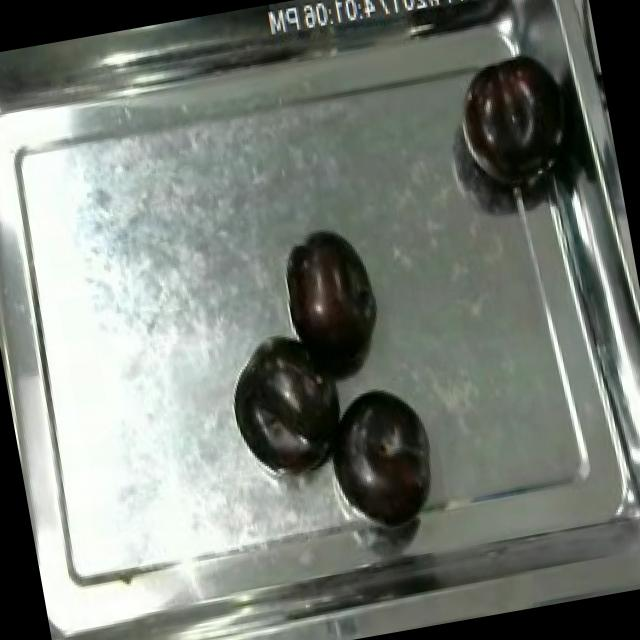Fruit: (320, 373, 446, 534), (224, 334, 340, 484), (443, 45, 559, 194), (280, 218, 390, 374)
